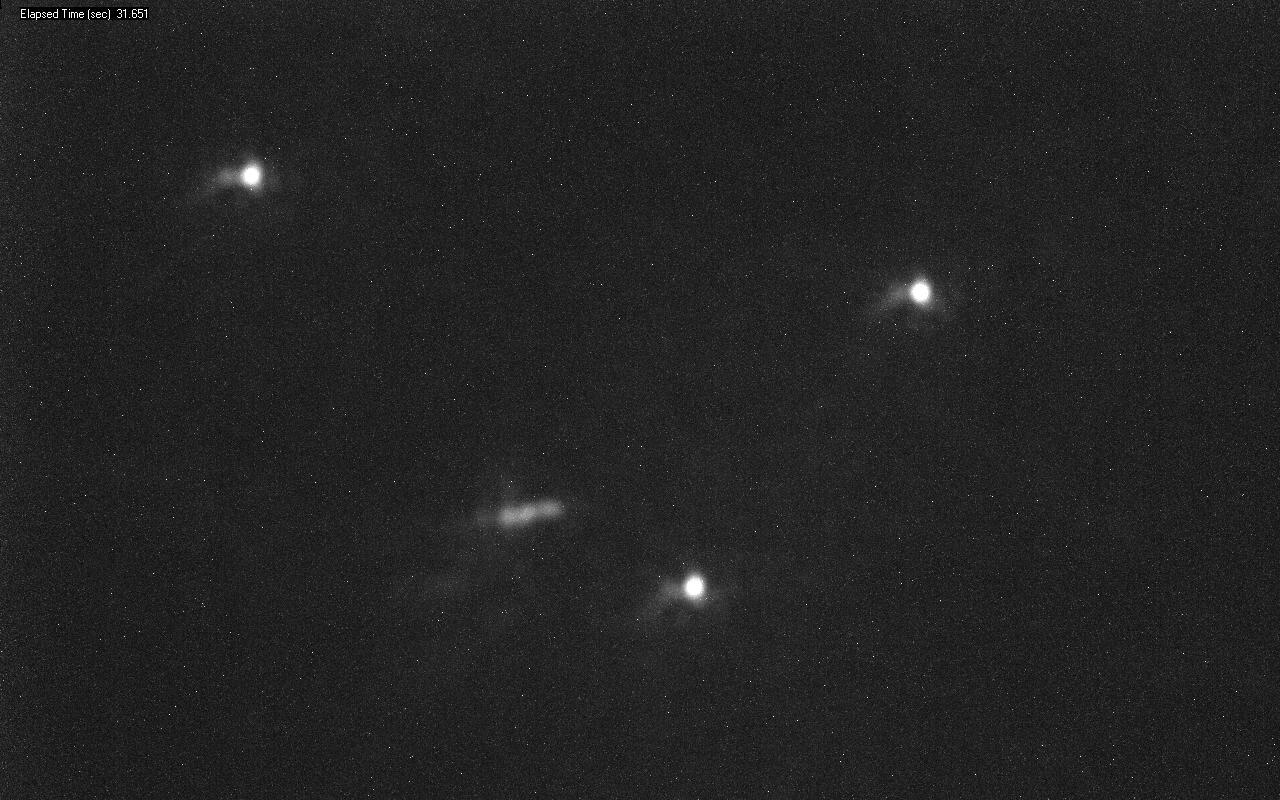Bead: (680, 569, 706, 604), (904, 279, 931, 308), (237, 164, 264, 188)
